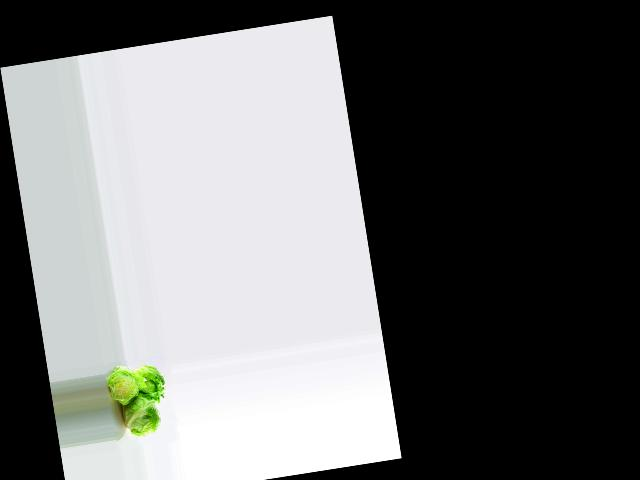lettuce: (131, 361, 171, 408)
